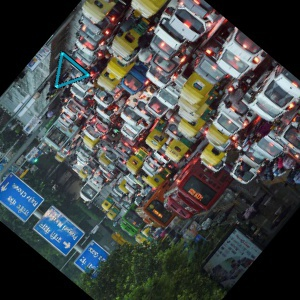triangle: (50, 49, 91, 91)
